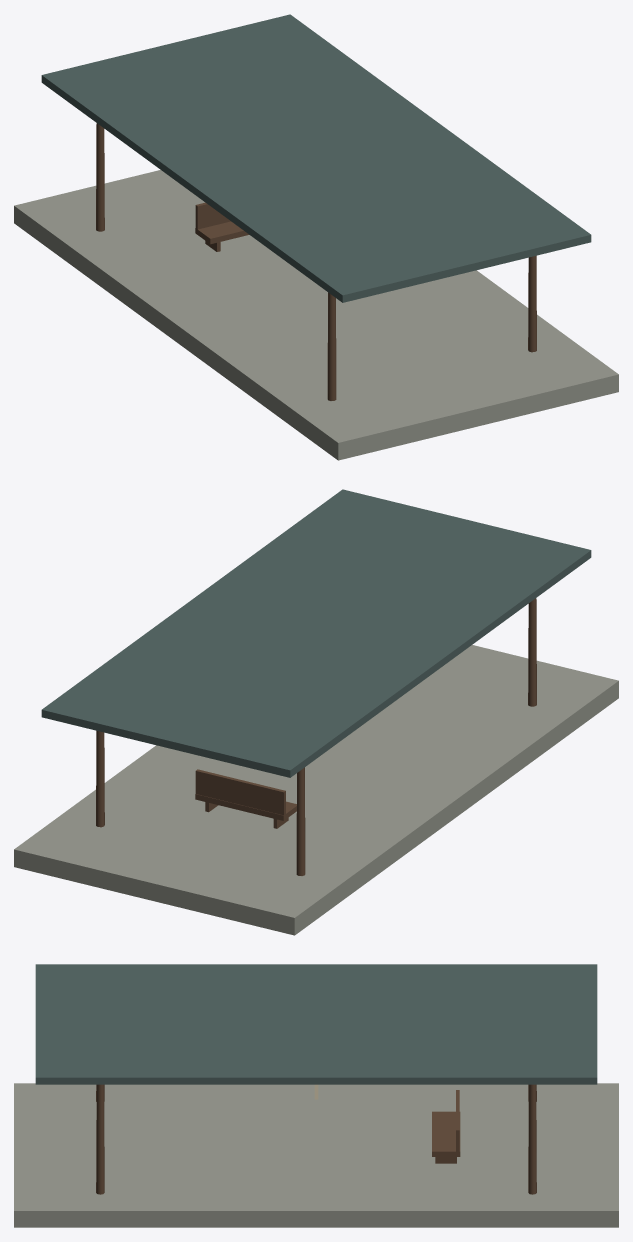
Rendered from station.glb.
3 renders of one model, top to bottom at view 1: azimuth 30°, elevation 25°; view 2: azimuth 150°, elevation 25°; view 3: azimuth 270°, elevation 25°, orthographic. The views are drawn at different scales.
Visible parts, largest first — view 1: Canopy, Platform, Canopy support (×3), Bench, Bench back; view 2: Canopy, Platform, Canopy support (×3), Bench back, Bench; view 3: Platform, Canopy, Canopy support (×2), Bench.
Part boxes in pixels (bbox=[...]): Canopy: bbox=[41, 14, 591, 302]; Platform: bbox=[14, 170, 618, 460]; Canopy support (×3): bbox=[96, 123, 536, 400]; Bench: bbox=[195, 221, 249, 244]; Bench back: bbox=[195, 202, 230, 229]; Canopy: bbox=[41, 489, 591, 777]; Platform: bbox=[14, 645, 618, 935]; Canopy support (×3): bbox=[96, 598, 536, 875]; Bench back: bbox=[195, 769, 285, 815]; Bench: bbox=[195, 794, 296, 820]; Platform: bbox=[14, 1083, 618, 1227]; Canopy: bbox=[35, 964, 597, 1084]; Canopy support (×2): bbox=[96, 1084, 536, 1194]; Bench: bbox=[432, 1111, 460, 1156].
Size of the model in its own units: 7 by 3.64 by 14.
